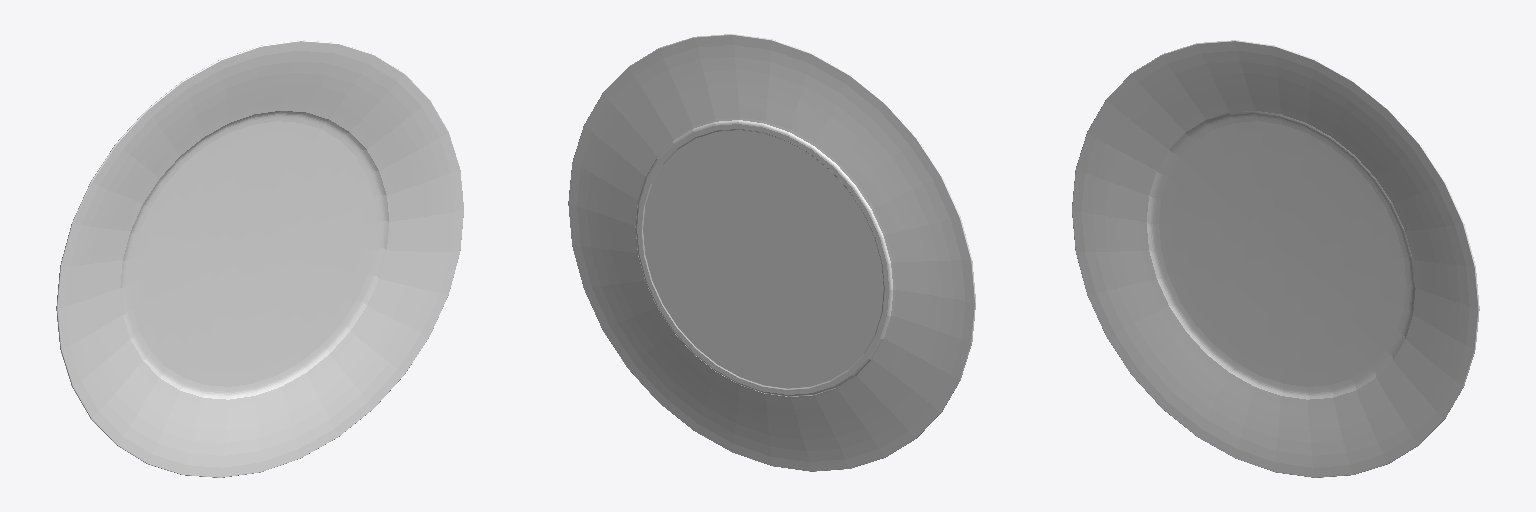
Rendered from ClassicPlate21cm.obj.
3 renders of one model, left to right at view 1: azimuth 30°, elevation 25°; view 2: azimuth 150°, elevation 25°; view 3: azimuth 330°, elevation 25°, orthographic.
Parts seen in each view (by area): view 1: ClassicPlate21cm; view 2: ClassicPlate21cm; view 3: ClassicPlate21cm.
Part boxes in pixels (bbox=[...]): ClassicPlate21cm: bbox=[56, 40, 463, 477]; ClassicPlate21cm: bbox=[568, 34, 975, 471]; ClassicPlate21cm: bbox=[1072, 40, 1479, 477].
Size of the model in its own units: 0.2076 by 0.2076 by 0.0085.